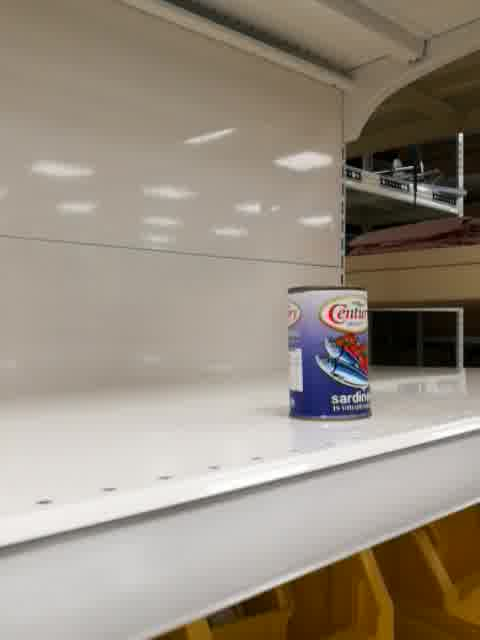sardine: (285, 281, 372, 424)
